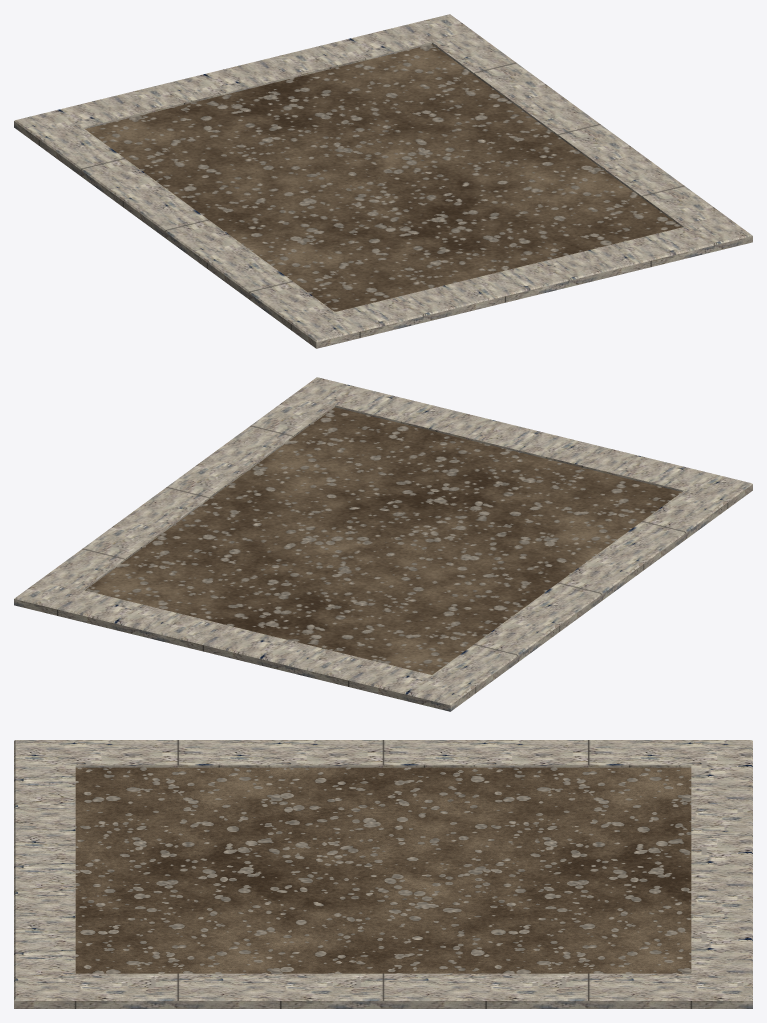
File: SM_Pav_Aiuola.fbx
3 views of the same model, one above another, from view 1: azimuth 30°, elevation 25°; view 2: azimuth 150°, elevation 25°; view 3: azimuth 270°, elevation 25° (orthographic). The views are drawn at different scales.
Parts seen in each view (by area): view 1: SM_Pav_Aiuola; view 2: SM_Pav_Aiuola; view 3: SM_Pav_Aiuola.
Part boxes in pixels (bbox=[...]): SM_Pav_Aiuola: bbox=[14, 14, 752, 348]; SM_Pav_Aiuola: bbox=[14, 377, 752, 711]; SM_Pav_Aiuola: bbox=[14, 740, 752, 1008].
Size of what is drawn, in the model's own units: 300 by 360 by 5.
2 materials, 2 textured.
